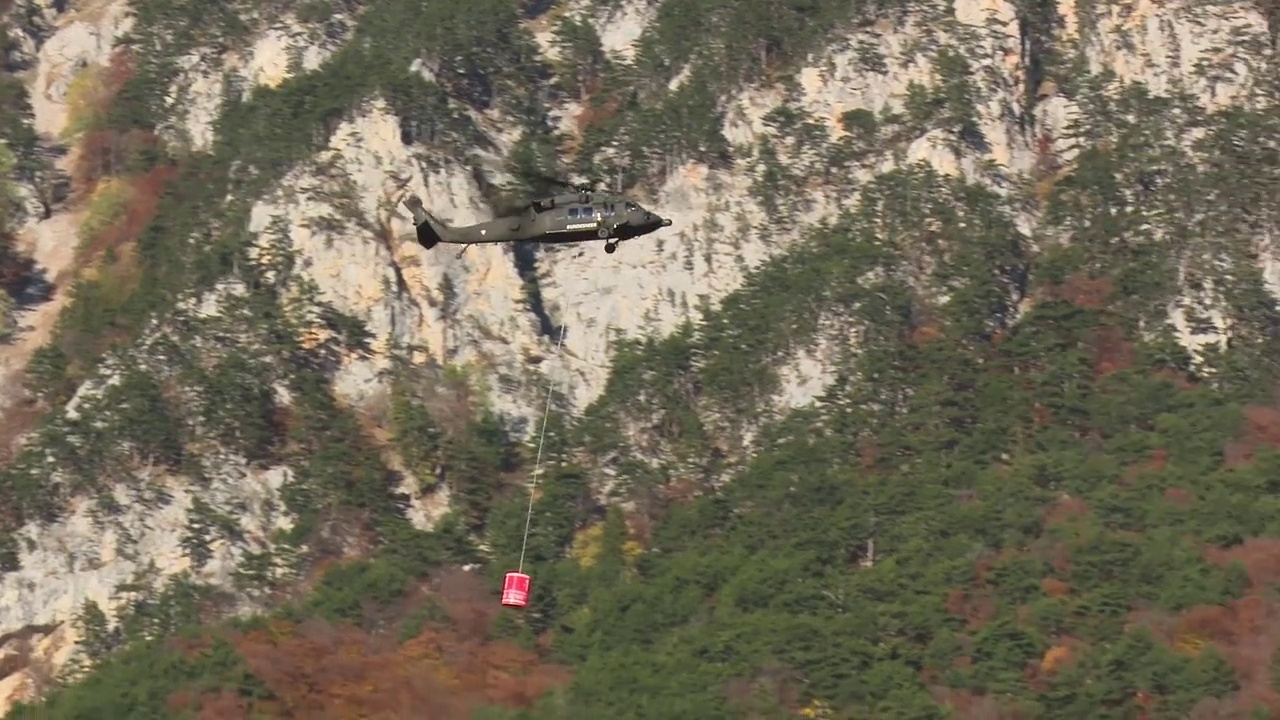heli: (405, 173, 672, 254)
